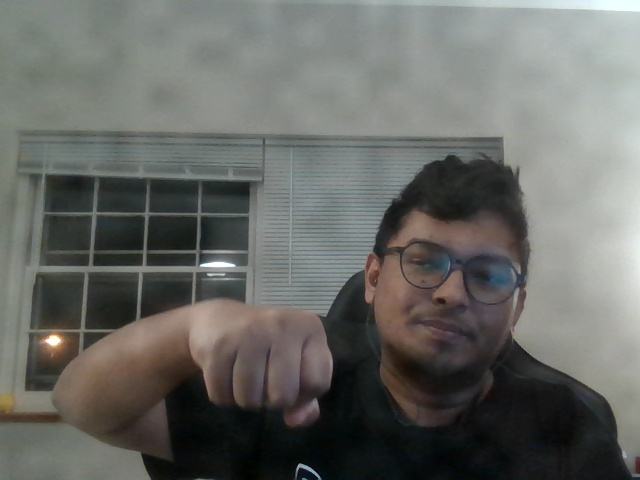yes: (157, 293, 348, 434)
